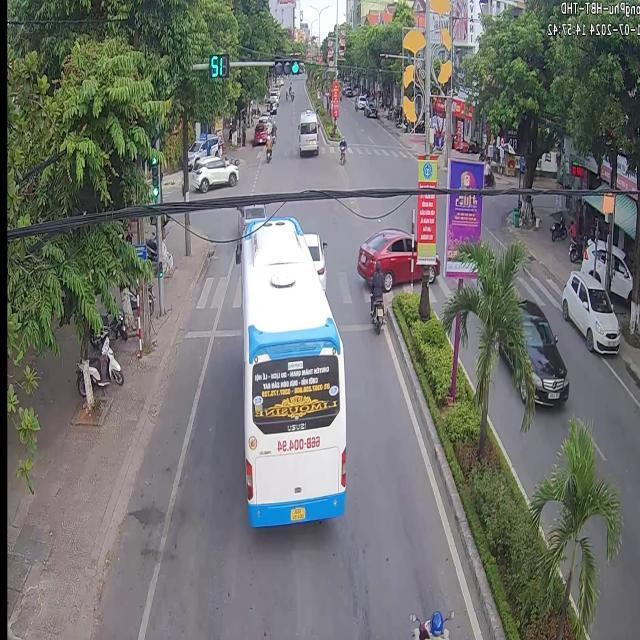car: (240, 217, 347, 530), (356, 227, 439, 289), (188, 154, 237, 191), (302, 231, 326, 288)
green_light: (272, 56, 302, 74), (149, 154, 159, 199)
motobike: (368, 258, 383, 331)
stop_line: (184, 328, 242, 336), (335, 319, 372, 330)
